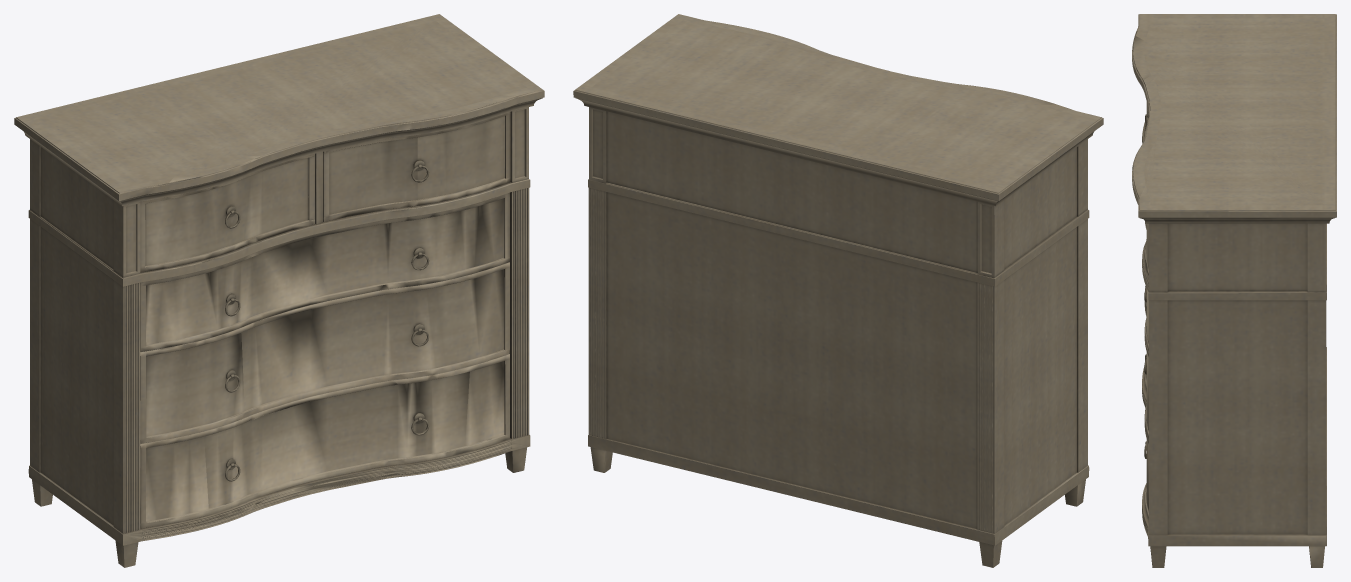
Rendered from raw_model.obj.
3 views of the same model, side by side, from view 1: azimuth 30°, elevation 25°; view 2: azimuth 150°, elevation 25°; view 3: azimuth 270°, elevation 25° (orthographic). The views are drawn at different scales.
Visible parts, largest first — view 1: solid_001, solid_002; view 2: solid_001; view 3: solid_001.
Boxes of the visible parts, bbox=[...] form: solid_001: bbox=[14, 14, 544, 567]; solid_002: bbox=[225, 160, 429, 481]; solid_001: bbox=[573, 14, 1103, 567]; solid_001: bbox=[1132, 14, 1336, 567].
Bounding box in the file's own units: 1.32 × 1.14 × 0.5823.
Materials: 1 (1 with a texture image).
